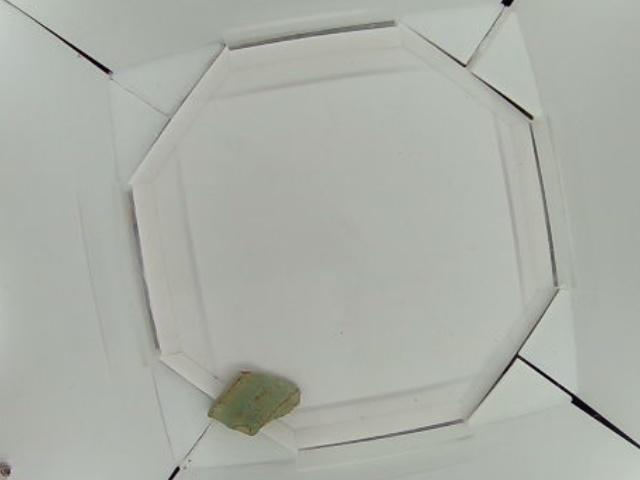China: (202, 366, 298, 437)
